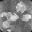people: (16, 1, 26, 13), (9, 12, 19, 21), (20, 14, 31, 22), (2, 20, 13, 28), (1, 11, 8, 18)
